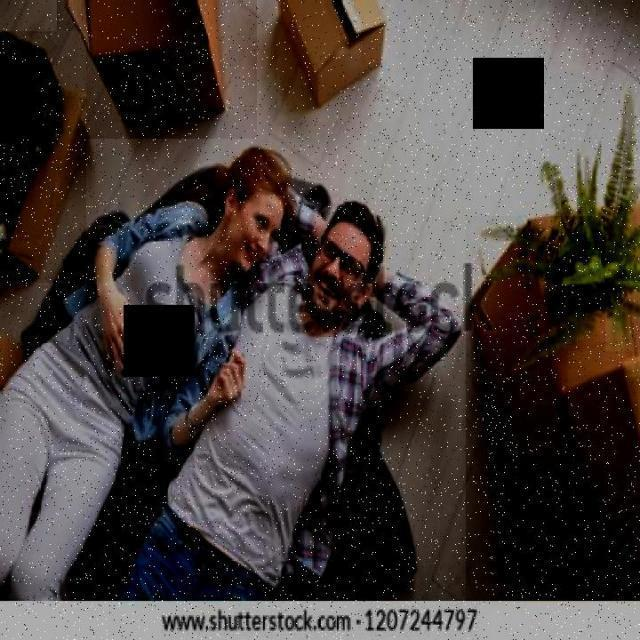box: (466, 216, 606, 610), (57, 0, 257, 139), (2, 32, 86, 284), (568, 351, 638, 598), (278, 0, 397, 122)
